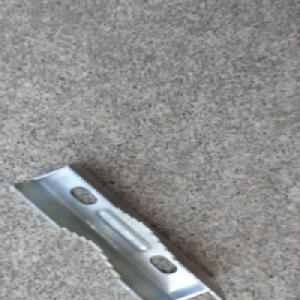ClampPart: (8, 158, 224, 300)
